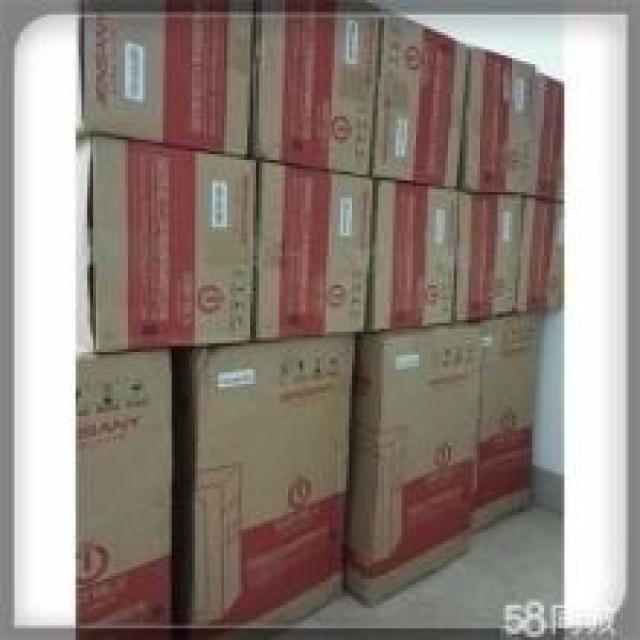Carton: (81, 15, 483, 623), (256, 15, 518, 332), (477, 311, 538, 535), (463, 47, 532, 192)
